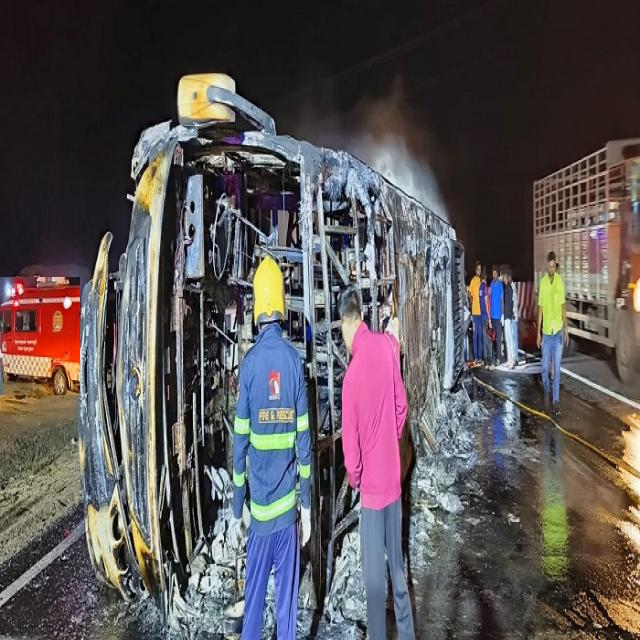accident: (80, 74, 464, 613)
emergency: (0, 278, 80, 395)
